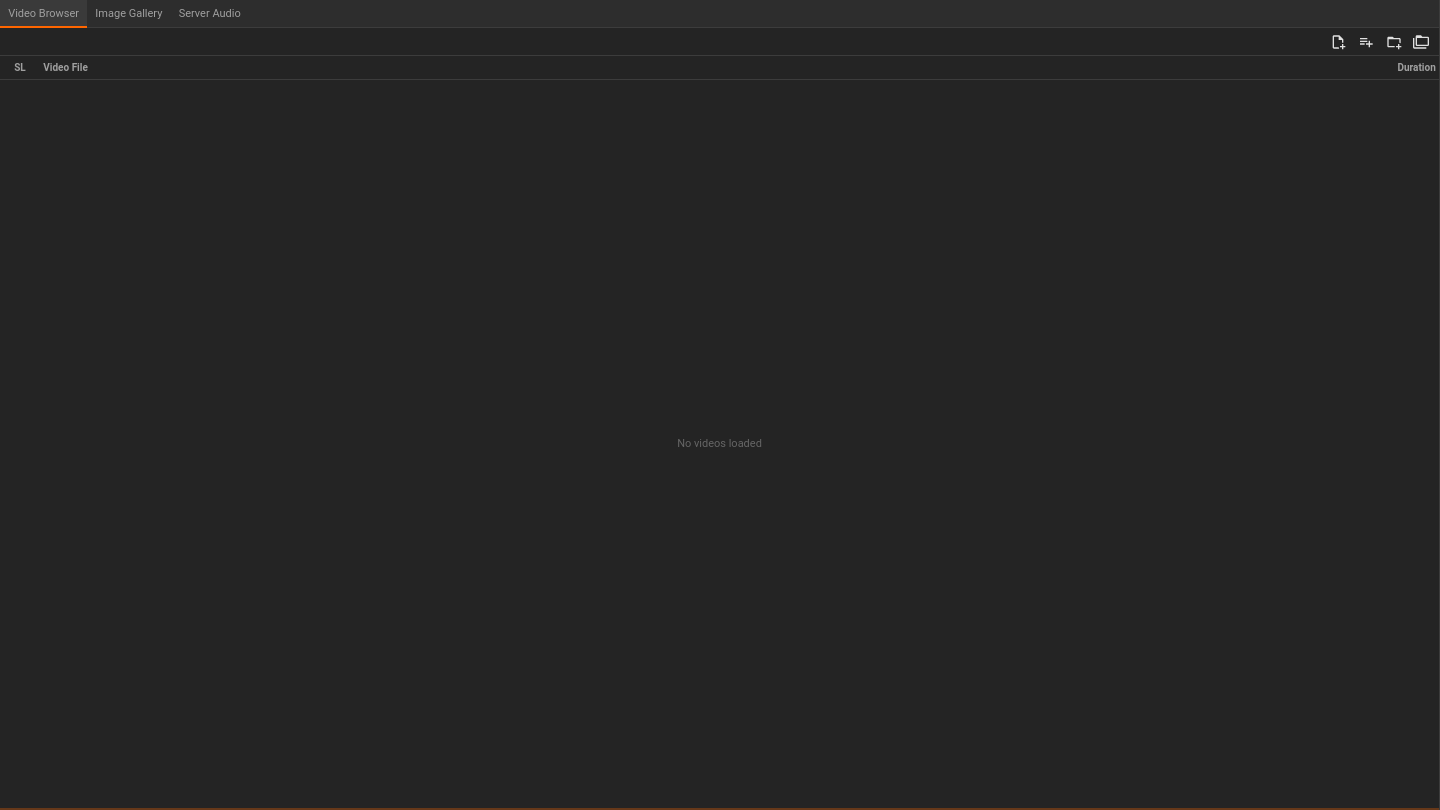
Test: Phase 16 — Left Tab Panel › Tab structure › switches to Image Gallery tab when clicked
This screenshot has width=1440, height=810.
Click the tab with test id "tab-trigger-image" at (129, 14), box [87,0,170,28]
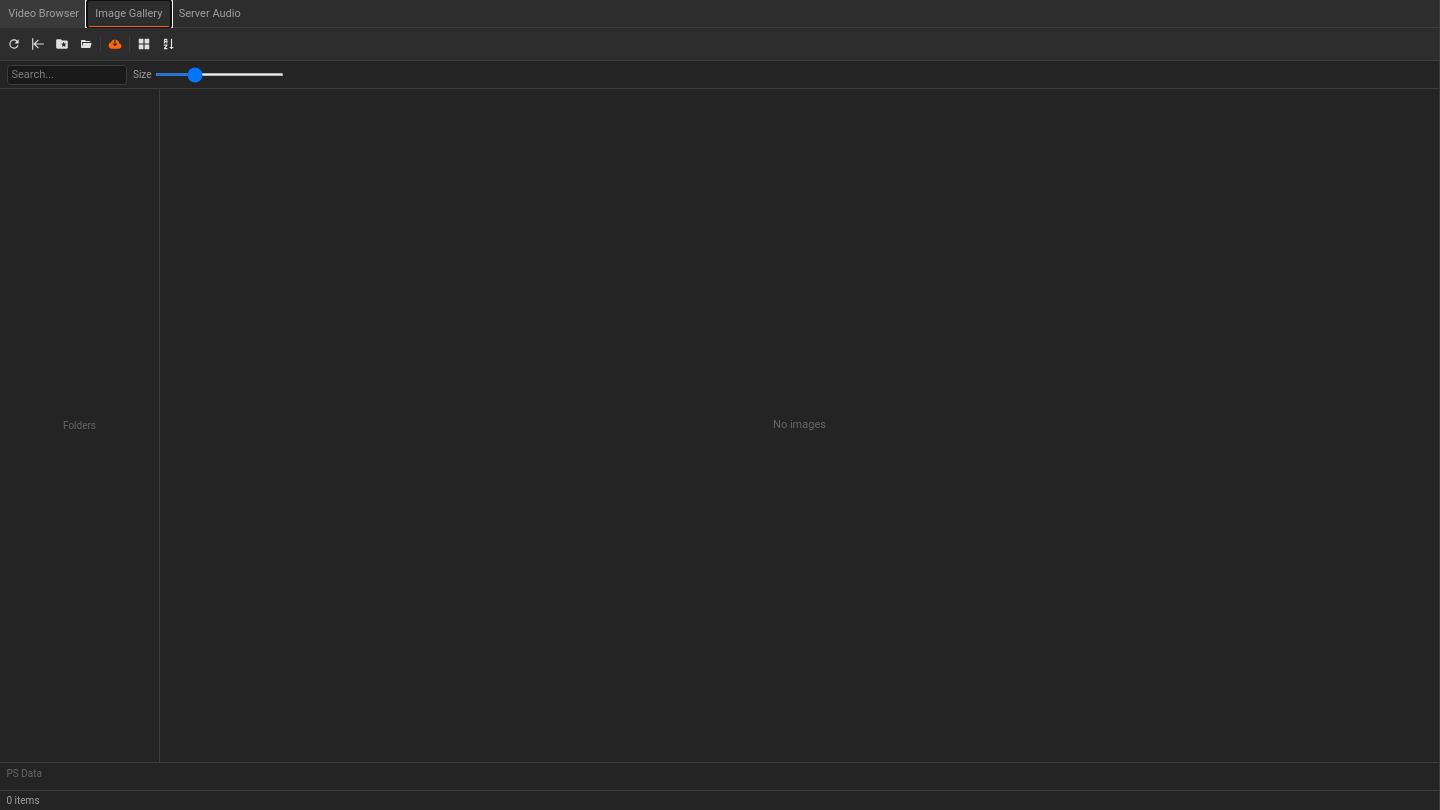
Check: the element with test id "image-gallery-tab" is shown
